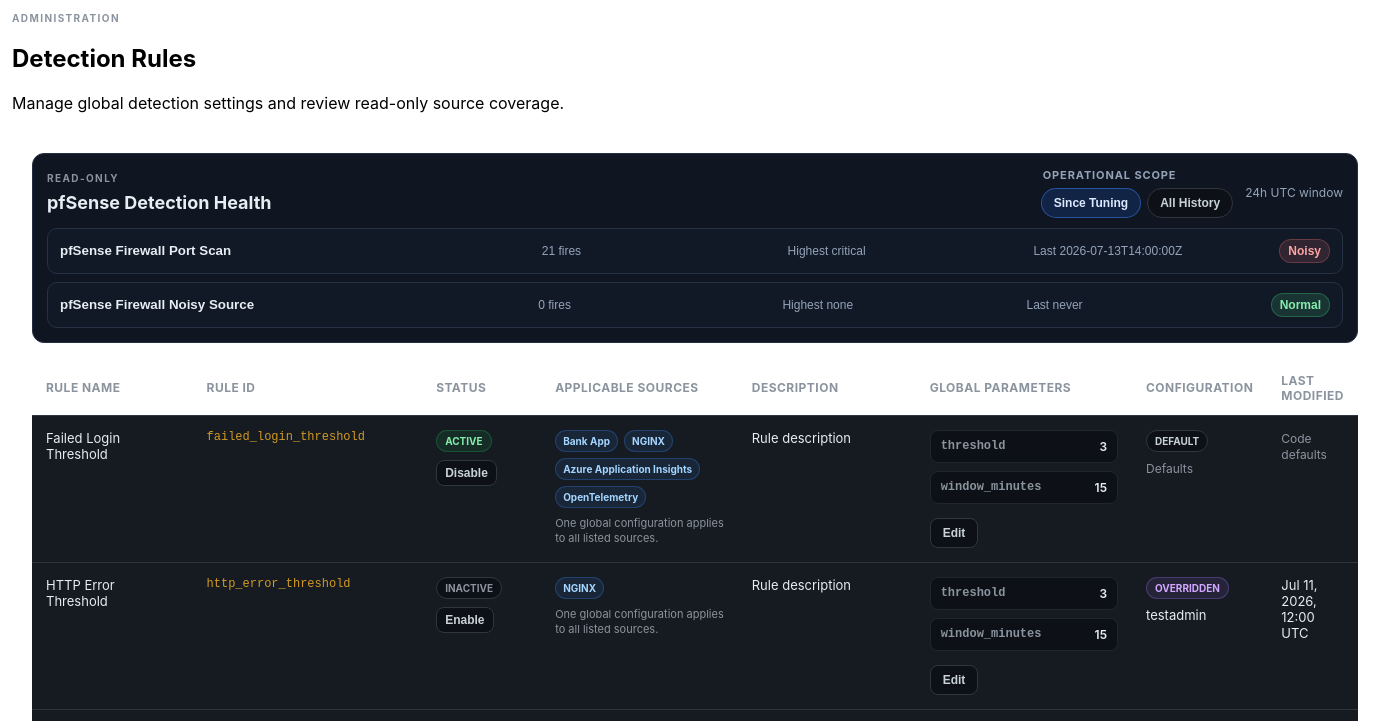
Test case: confirms and sends an active-only disable update
The width and height of the screenshot is (1378, 721).
What coordinates should you click on to do the following:
click the button with aria-label "Disable Failed Login Threshold"
I would click on:
 (467, 473)
Its box is [436, 460, 497, 486].
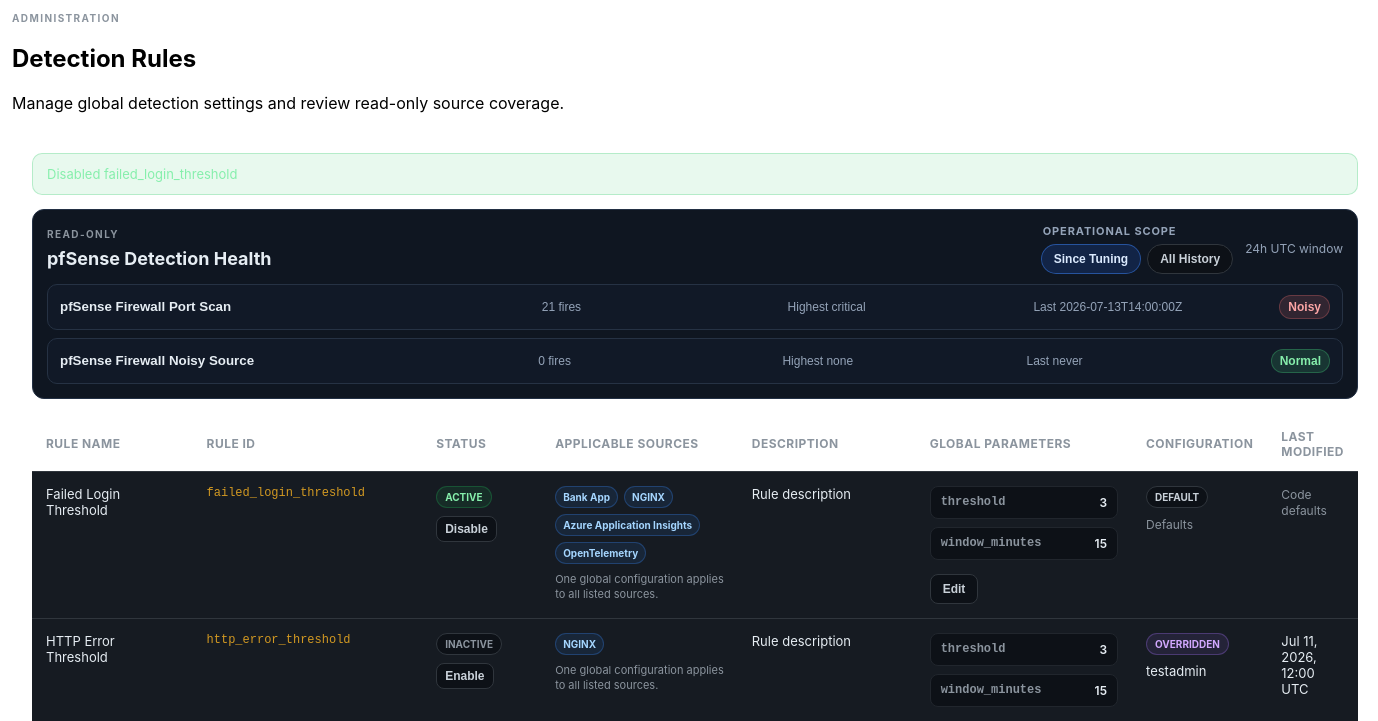
expect the text "Disabled failed_login_threshold" is shown: met, box [32, 153, 1358, 195]
